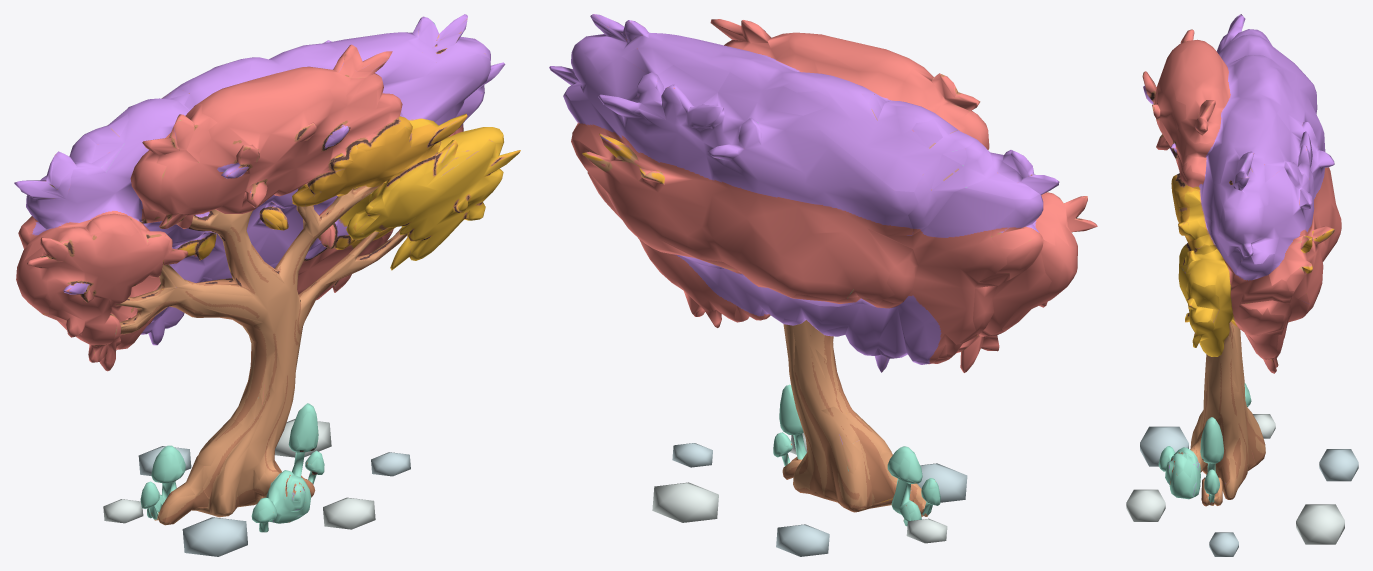
File: lagoon_tree_umbrella.glb
3 views of the same model, side by side, from view 1: azimuth 30°, elevation 25°; view 2: azimuth 150°, elevation 25°; view 3: azimuth 270°, elevation 25° (orthographic). The views are drawn at different scales.
Visible parts, largest first — view 1: lagoon_tree_umbrella.001; view 2: lagoon_tree_umbrella.001; view 3: lagoon_tree_umbrella.001.
Part boxes in pixels (x1,y1,x2,y2): lagoon_tree_umbrella.001: (14, 14, 520, 556); lagoon_tree_umbrella.001: (549, 14, 1097, 556); lagoon_tree_umbrella.001: (1126, 14, 1358, 556).
Size of the model in its own units: 7.16 by 6.1 by 2.91.
Materials: 3 (1 with a texture image).
